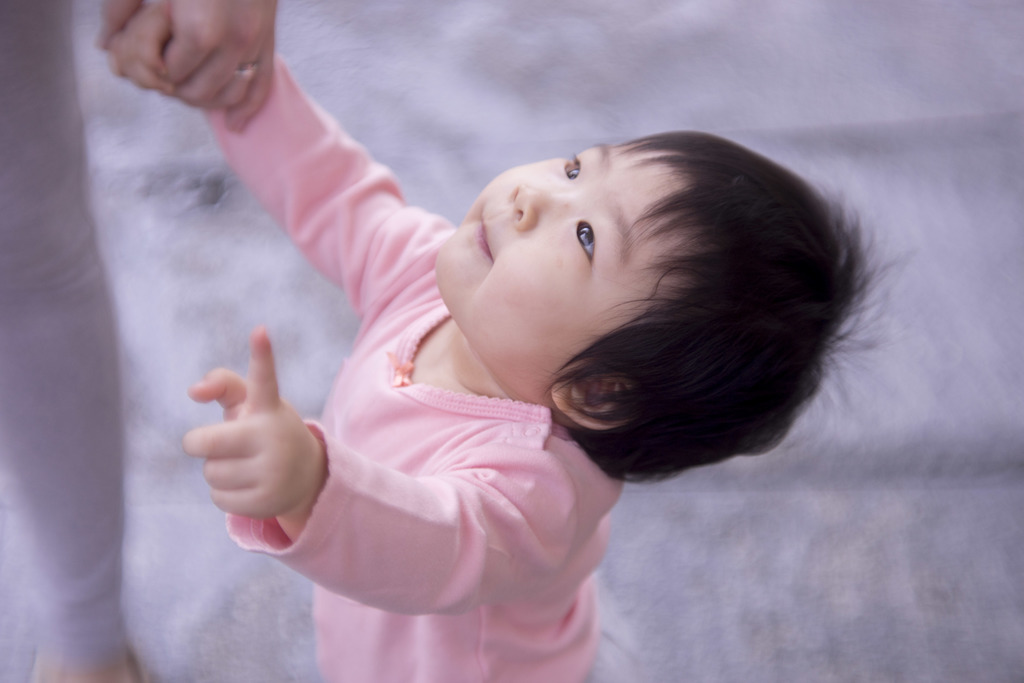Human_hand: (186, 329, 342, 541), (97, 0, 275, 133), (110, 0, 173, 94)
